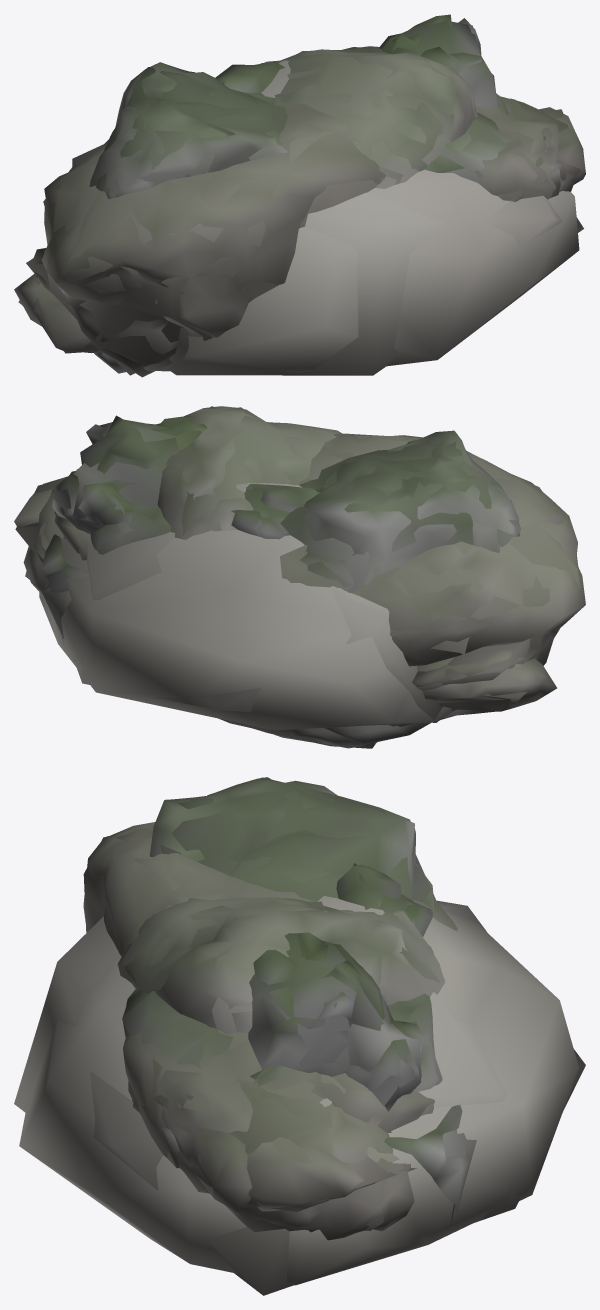
File: rocks.glb
3 renders of one model, top to bottom at view 1: azimuth 30°, elevation 25°; view 2: azimuth 150°, elevation 25°; view 3: azimuth 270°, elevation 25°, orthographic. The views are drawn at different scales.
Parts seen in each view (by area): view 1: rock2, pebble, rock2_far, pebble_far, rock1, rock0, rock0_far, rock1_far, rock3, rock4, rock3_far, rock4_far; view 2: pebble, rock2, rock1, rock3, rock2_far, rock0, rock1_far, pebble_far, rock0_far, rock3_far, rock4, rock4_far; view 3: pebble, rock2, pebble_far, rock1, rock0, rock3, rock4, rock1_far, rock3_far, rock2_far, rock0_far, rock4_far.
Part boxes in pixels (x1,y1,x2,y2): rock2: [33, 93, 582, 377]; pebble: [68, 167, 579, 372]; rock2_far: [26, 93, 574, 375]; pebble_far: [72, 60, 583, 375]; rock1: [89, 62, 560, 198]; rock0: [264, 46, 475, 184]; rock0_far: [276, 47, 476, 188]; rock1_far: [96, 67, 514, 197]; rock3: [94, 14, 497, 373]; rock4: [14, 96, 585, 352]; rock3_far: [98, 20, 481, 354]; rock4_far: [18, 99, 580, 353]; pebble: [39, 530, 452, 730]; rock2: [14, 433, 585, 686]; rock1: [90, 430, 520, 590]; rock3: [41, 415, 494, 744]; rock2_far: [15, 436, 582, 690]; rock0: [158, 406, 377, 748]; rock1_far: [97, 440, 520, 592]; pebble_far: [77, 483, 443, 722]; rock0_far: [157, 406, 375, 748]; rock3_far: [47, 419, 456, 739]; rock4: [23, 469, 556, 711]; rock4_far: [25, 471, 545, 706]; pebble: [19, 902, 578, 1285]; rock2: [83, 822, 457, 1211]; pebble_far: [14, 896, 585, 1295]; rock1: [124, 777, 437, 1168]; rock0: [118, 897, 444, 1032]; rock3: [248, 864, 476, 1212]; rock4: [133, 1079, 484, 1240]; rock1_far: [122, 777, 442, 1085]; rock3_far: [249, 863, 466, 1230]; rock2_far: [83, 828, 457, 1212]; rock0_far: [117, 901, 439, 1034]; rock4_far: [132, 1092, 406, 1232].
Bounding box in the file's own units: 3.04 × 1.31 × 2.27.
